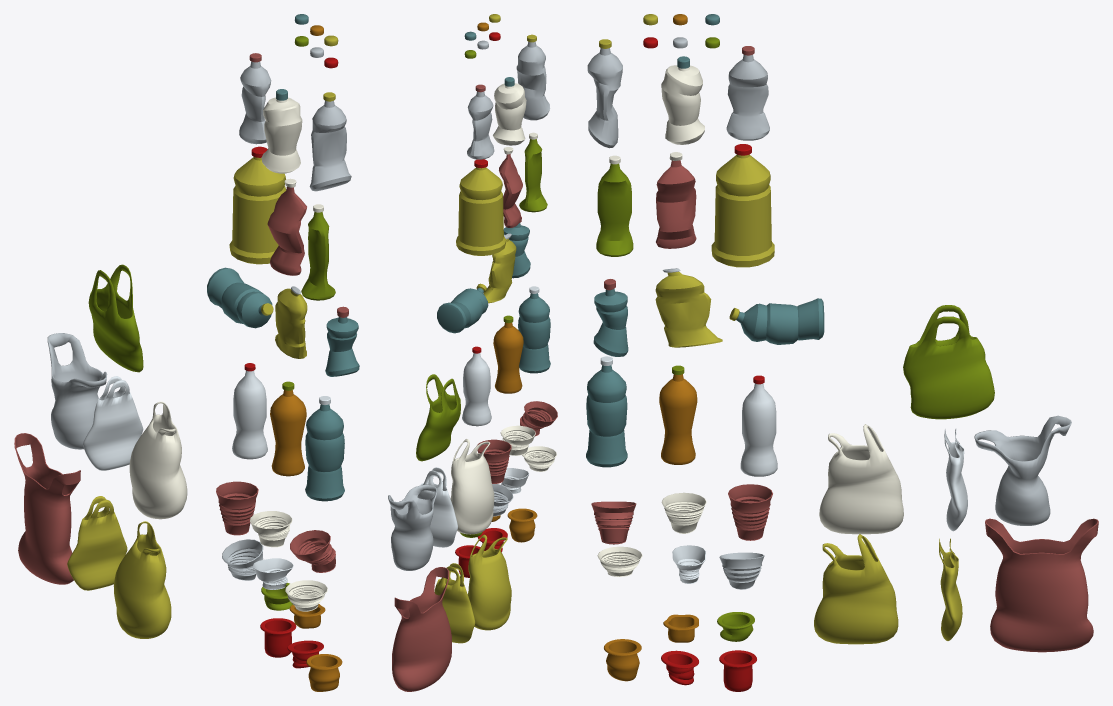
File: Plasticos_FBX.fbx
3 views of the same model, side by side, from view 1: azimuth 30°, elevation 25°; view 2: azimuth 150°, elevation 25°; view 3: azimuth 270°, elevation 25° (orthographic). The views are drawn at different scales.
Visible parts, largest first — view 1: BolsaPlastico_03, BolsaPlastico_01, BolsaPlastico_04, Botella_09, BolsaPlastico_06.001, BolsaPlastico_05, BolsaPlastico_02, BolsaPlastico_06, Botella_01, Botella_10, Botella_11, Botella_03 (+18 smaller); view 2: BolsaPlastico_03, Botella_09, BolsaPlastico_04, BolsaPlastico_01, BolsaPlastico_06.001, Botella_01, BolsaPlastico_06, Botella_10, BolsaPlastico_02, Botella_03, Botella_11, Botella_02 (+16 smaller); view 3: BolsaPlastico_03, BolsaPlastico_06, BolsaPlastico_04, BolsaPlastico_01, Botella_09, BolsaPlastico_06.001, Botella_01, Botella_05, Botella_06, Botella_08, Botella_12, Botella_11 (+18 smaller).
Part boxes in pixels (x1=…): BolsaPlastico_03: x1=14, y1=433, x2=80, y2=584; BolsaPlastico_01: x1=113, y1=521, x2=171, y2=638; BolsaPlastico_04: x1=129, y1=401, x2=187, y2=519; Botella_09: x1=229, y1=146, x2=286, y2=264; BolsaPlastico_06.001: x1=47, y1=333, x2=107, y2=449; BolsaPlastico_05: x1=83, y1=376, x2=143, y2=470; BolsaPlastico_02: x1=67, y1=496, x2=127, y2=590; BolsaPlastico_06: x1=88, y1=264, x2=143, y2=372; Botella_01: x1=305, y1=396, x2=344, y2=501; Botella_10: x1=309, y1=92, x2=351, y2=191; Botella_11: x1=261, y1=89, x2=302, y2=173; Botella_03: x1=232, y1=363, x2=267, y2=459; BolsaPlastico_03: x1=392, y1=567, x2=451, y2=691; Botella_09: x1=456, y1=159, x2=506, y2=255; BolsaPlastico_04: x1=450, y1=439, x2=494, y2=534; BolsaPlastico_01: x1=467, y1=534, x2=511, y2=630; BolsaPlastico_06.001: x1=388, y1=484, x2=437, y2=570; Botella_01: x1=518, y1=286, x2=550, y2=373; BolsaPlastico_06: x1=416, y1=374, x2=460, y2=461; Botella_10: x1=516, y1=34, x2=550, y2=120; BolsaPlastico_02: x1=434, y1=563, x2=475, y2=643; Botella_03: x1=462, y1=346, x2=491, y2=426; Botella_11: x1=493, y1=77, x2=526, y2=145; Botella_02: x1=493, y1=315, x2=523, y2=393; BolsaPlastico_03: x1=985, y1=518, x2=1098, y2=652; BolsaPlastico_06: x1=903, y1=305, x2=994, y2=419; BolsaPlastico_04: x1=819, y1=424, x2=903, y2=534; BolsaPlastico_01: x1=814, y1=534, x2=898, y2=644; Botella_09: x1=711, y1=144, x2=774, y2=267; BolsaPlastico_06.001: x1=974, y1=415, x2=1071, y2=525; Botella_01: x1=586, y1=356, x2=627, y2=467; Botella_05: x1=655, y1=268, x2=722, y2=347; Botella_06: x1=729, y1=298, x2=824, y2=344; Botella_08: x1=656, y1=152, x2=696, y2=248; Botella_12: x1=726, y1=46, x2=769, y2=140; Botella_11: x1=661, y1=56, x2=704, y2=144.
Size of the model in its own units: 0.9982 by 4.84 by 3.31.
